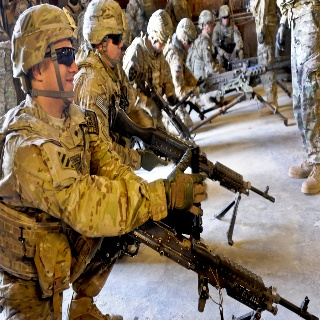rifle: (108, 104, 277, 249), (116, 216, 318, 320)
